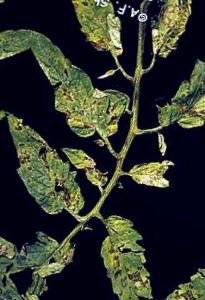Tomato Septoria leaf spot: (7, 25, 150, 154), (0, 107, 106, 226), (75, 209, 180, 300), (141, 19, 205, 154), (37, 0, 144, 60), (0, 213, 39, 280)
